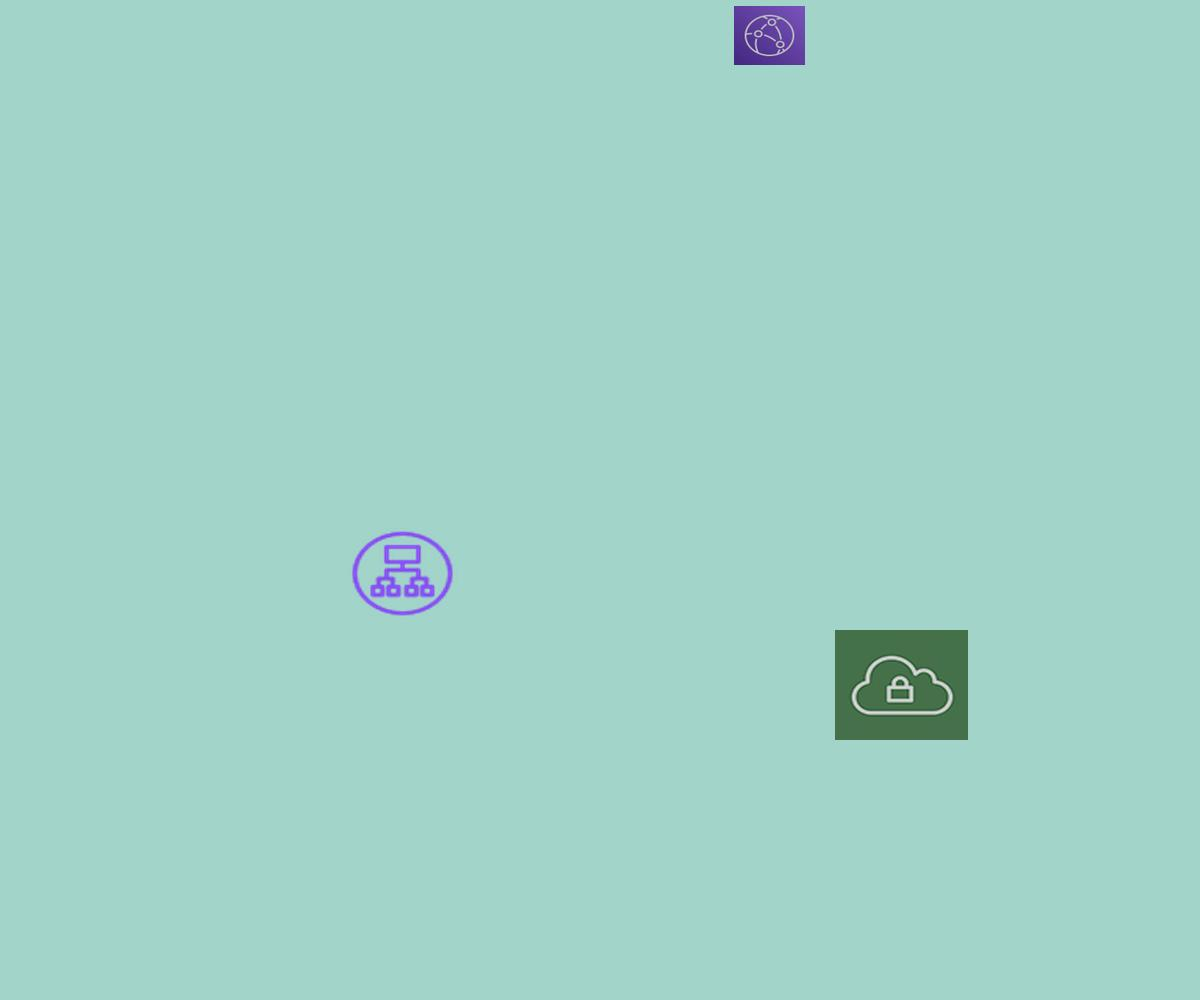AWS-CloudFront: (734, 6, 805, 65)
AWS-Private_vpc: (835, 630, 968, 740)
AWS-Res_Elastic-Load-Balancing_Application-Load-Balancer: (348, 528, 457, 619)
